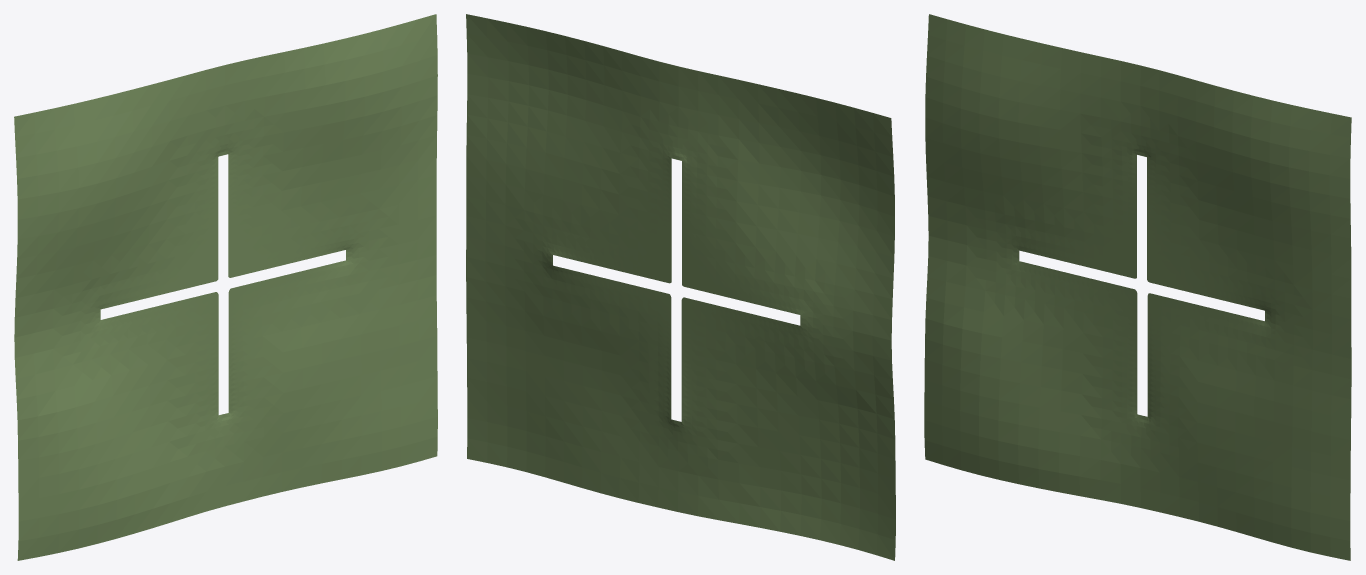
The model's file is Scenario.obj.
3 renders of one model, left to right at view 1: azimuth 30°, elevation 25°; view 2: azimuth 150°, elevation 25°; view 3: azimuth 330°, elevation 25°, orthographic.
Parts seen in each view (by area): view 1: Background; view 2: Background; view 3: Background.
Boxes of the visible parts, box(x1,y1,x2,y2) form: Background: box(14, 14, 437, 560); Background: box(466, 14, 895, 560); Background: box(924, 14, 1351, 560).
Size of the model in its own units: 880 by 880 by 33.92.
